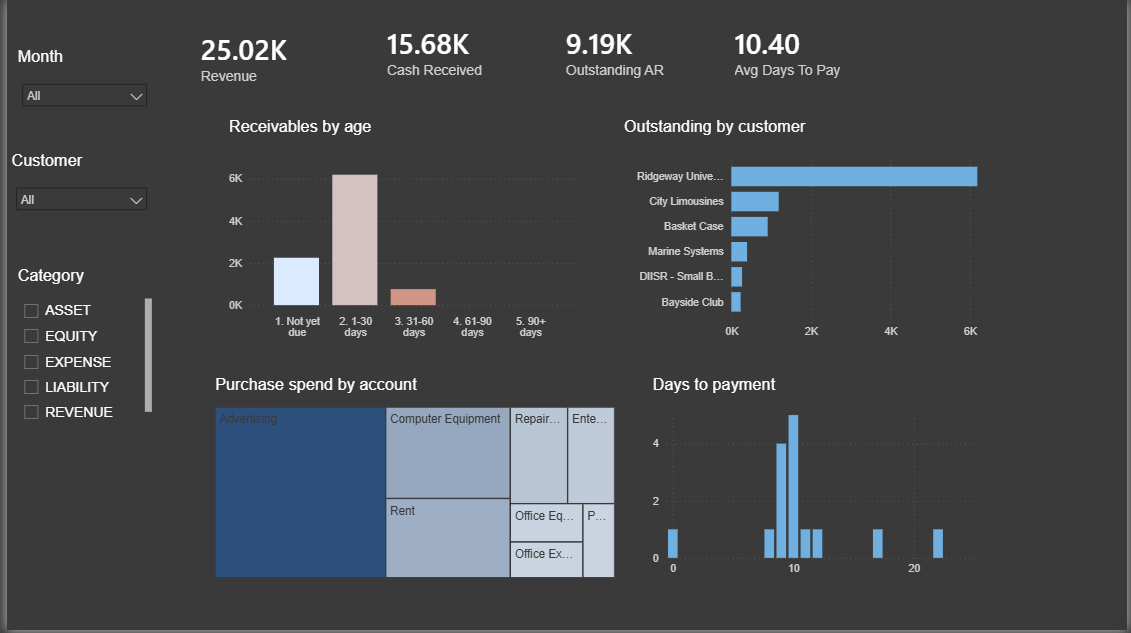

The dashboard page shown, as its layout file describes it:
{"tool":"powerbi","page":{"name":"Page 1","canvas":[1280,720],"ordinal":0},"visuals":[{"type":"cardVisual","fields":{"Data":["zMeasures.Revenue"]},"box":[191.6,7,195.5,115.7],"z":0},{"type":"cardVisual","fields":{"Data":["zMeasures.Cash Received"]},"box":[404.1,7,180.6,100.8],"z":1000},{"type":"cardVisual","fields":{"Data":["zMeasures.Outstanding AR"]},"box":[608.6,7,182.6,100.8],"z":2000},{"type":"cardVisual","fields":{"Data":["zMeasures.Avg Days To Pay"]},"box":[802.1,7,182.6,100.8],"z":3000},{"type":"clusteredColumnChart","title":"Receivables by age","fields":{"Y":["zMeasures.Outstanding AR"],"Category":["dim_aging_bucket.aging_bucket"]},"box":[248.6,134.3,408.6,261.4],"z":4000},{"type":"clusteredBarChart","title":"Outstanding by customer","fields":{"Category":["dim_contact.contact_name"],"Y":["zMeasures.Outstanding AR"]},"box":[700,134.3,459,261],"z":5000},{"type":"treemap","title":"Purchase spend by account","fields":{"Group":["dim_account.account_name"],"Values":["zMeasures.Spend"]},"box":[232.9,428.6,466.7,236.7],"z":6000},{"type":"clusteredColumnChart","title":"Days to payment","fields":{"Category":["mart_dso.days_to_pay"],"Y":["CountNonNull(mart_dso.invoice_id)"]},"box":[732.9,428.6,385,237],"z":7000},{"type":"slicer","title":"Month","fields":{"Values":["dim_date.year_month"]},"box":[7.1,54.3,163,109],"z":8000},{"type":"slicer","title":"Customer","fields":{"Values":["dim_contact.contact_name"]},"box":[0,172.9,170,115],"z":9000},{"type":"slicer","title":"Category","fields":{"Values":["dim_account.account_class"]},"box":[7.1,304.3,163,183],"z":10000}]}

Visuals, with their boxes in screenshot pixels (x1, y1, x2, y2), scaled from the page's 1280x720 canvas onto the 1131x633 screenshot:
cardVisual - zMeasures.Revenue: box(169, 6, 342, 108)
cardVisual - zMeasures.Cash Received: box(357, 6, 517, 95)
cardVisual - zMeasures.Outstanding AR: box(538, 6, 699, 95)
cardVisual - zMeasures.Avg Days To Pay: box(709, 6, 870, 95)
"Receivables by age" clusteredColumnChart: box(220, 118, 581, 348)
"Outstanding by customer" clusteredBarChart: box(619, 118, 1024, 348)
"Purchase spend by account" treemap: box(206, 377, 618, 585)
"Days to payment" clusteredColumnChart: box(648, 377, 988, 585)
"Month" slicer: box(6, 48, 150, 144)
"Customer" slicer: box(0, 152, 150, 253)
"Category" slicer: box(6, 268, 150, 428)
